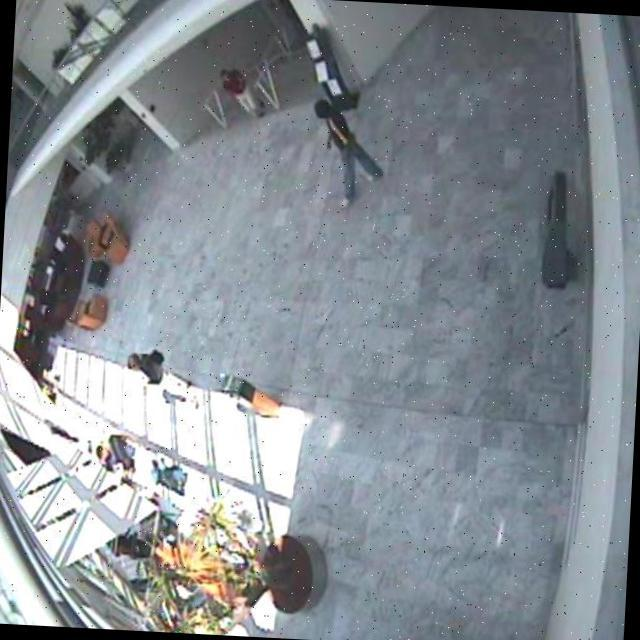person: (308, 96, 392, 214), (216, 61, 268, 122)
